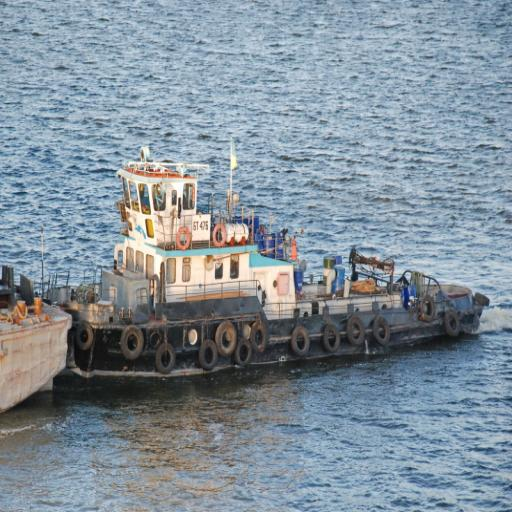tugboat: (2, 143, 493, 396)
